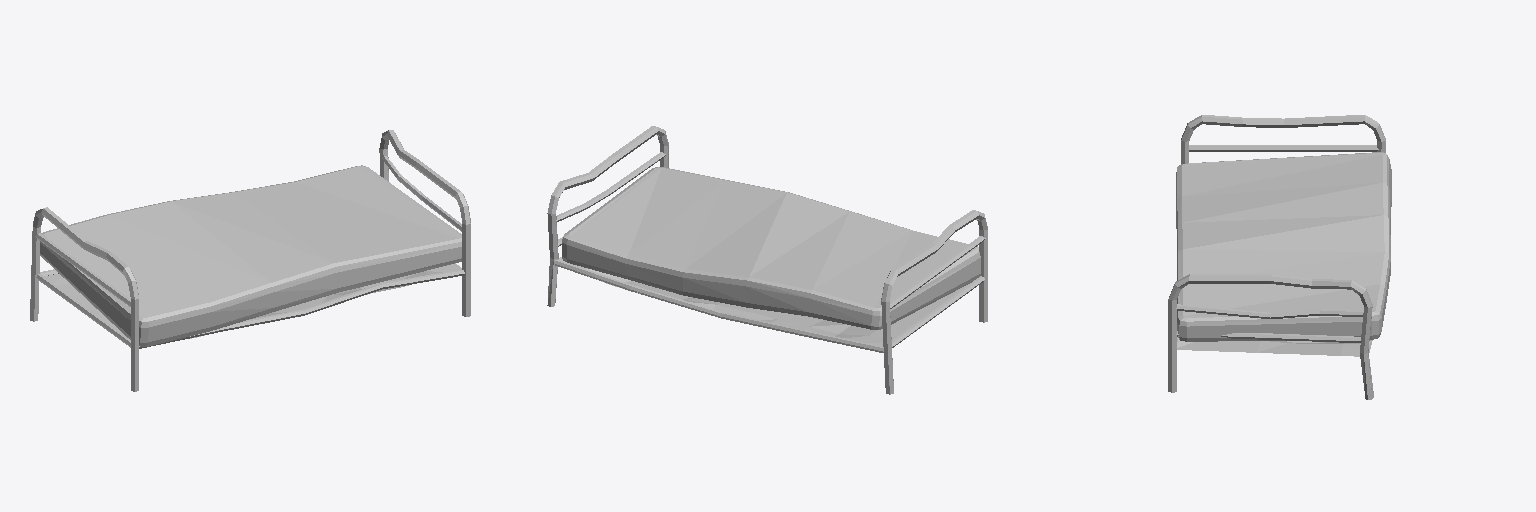
File: bed.obj
3 views of the same model, side by side, from view 1: azimuth 30°, elevation 25°; view 2: azimuth 150°, elevation 25°; view 3: azimuth 270°, elevation 25° (orthographic).
Visible parts, largest first — view 1: Gotham_Objects_Mattress, Gotham_Objects_Bedframe; view 2: Gotham_Objects_Mattress, Gotham_Objects_Bedframe; view 3: Gotham_Objects_Mattress, Gotham_Objects_Bedframe.
Part boxes in pixels (x1,y1,x2,y2): Gotham_Objects_Mattress: (40,165,461,346); Gotham_Objects_Bedframe: (30,130,470,391); Gotham_Objects_Mattress: (562,167,980,329); Gotham_Objects_Bedframe: (547,126,987,394); Gotham_Objects_Mattress: (1176,152,1391,341); Gotham_Objects_Bedframe: (1168,115,1385,399).
Size of the model in its own units: 266 by 84.04 by 146.